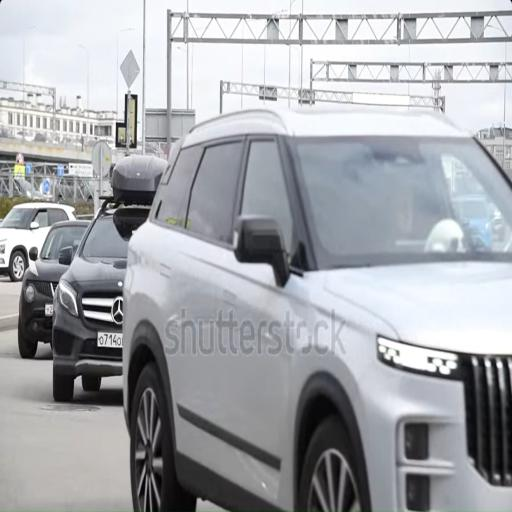License plates: (98, 332, 122, 347), (45, 304, 52, 316)
